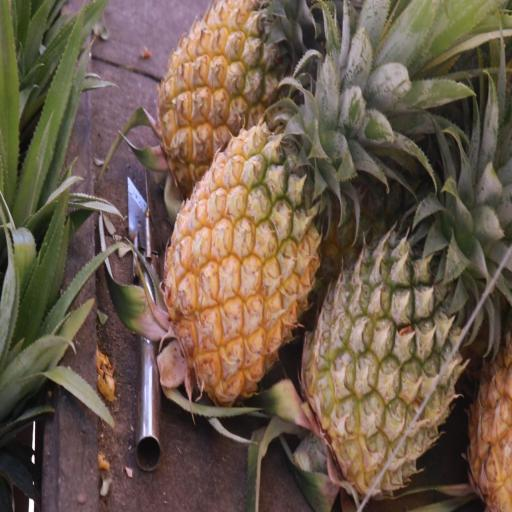Pineapple - v8 v1: (158, 91, 330, 406), (151, 0, 307, 223)
